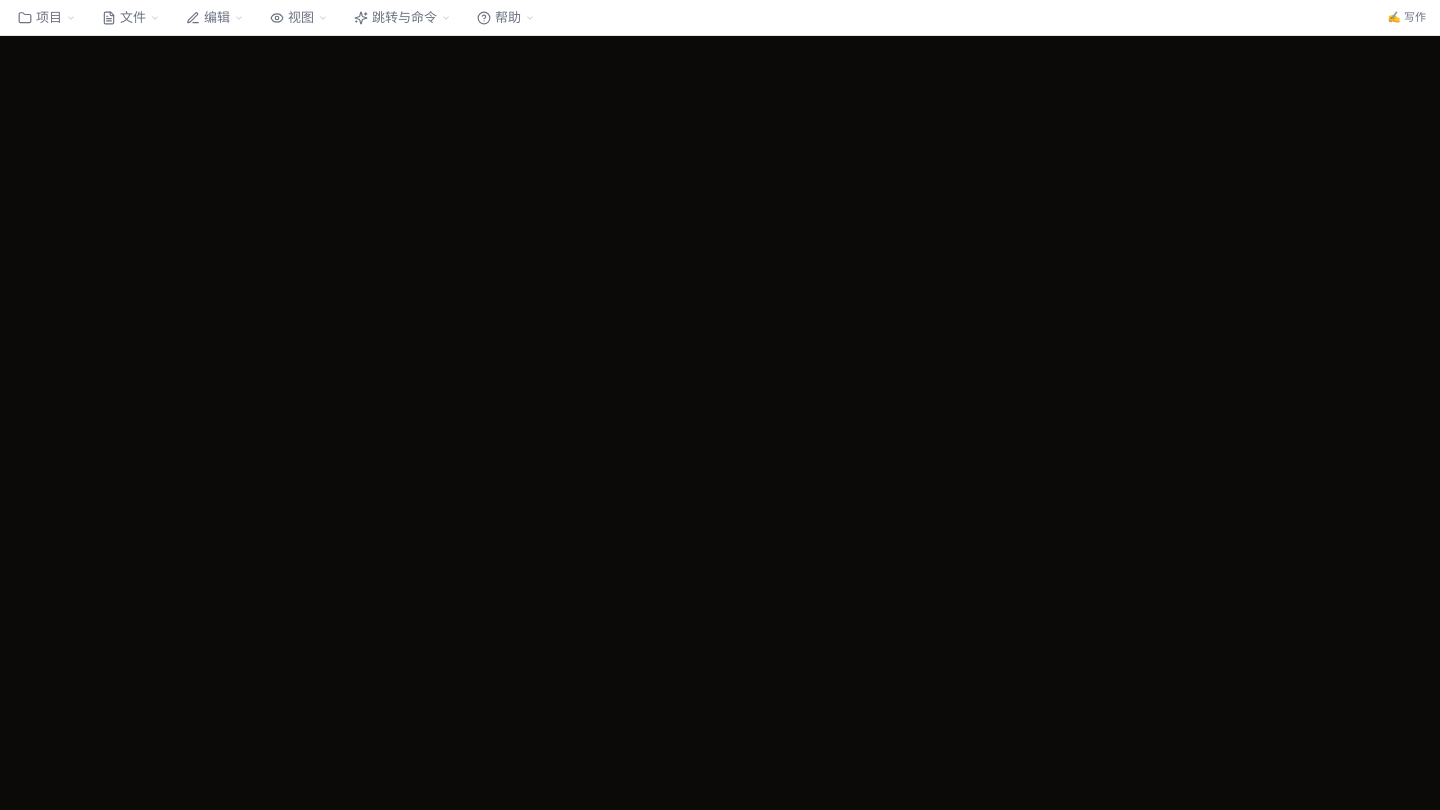
Test: MenuBar(注册表驱动) › 菜单项与注册表 project 分类完全一致(label + 快捷键标签)
Click the button with test id "menu-project": point(47, 18) [6,4,88,32]
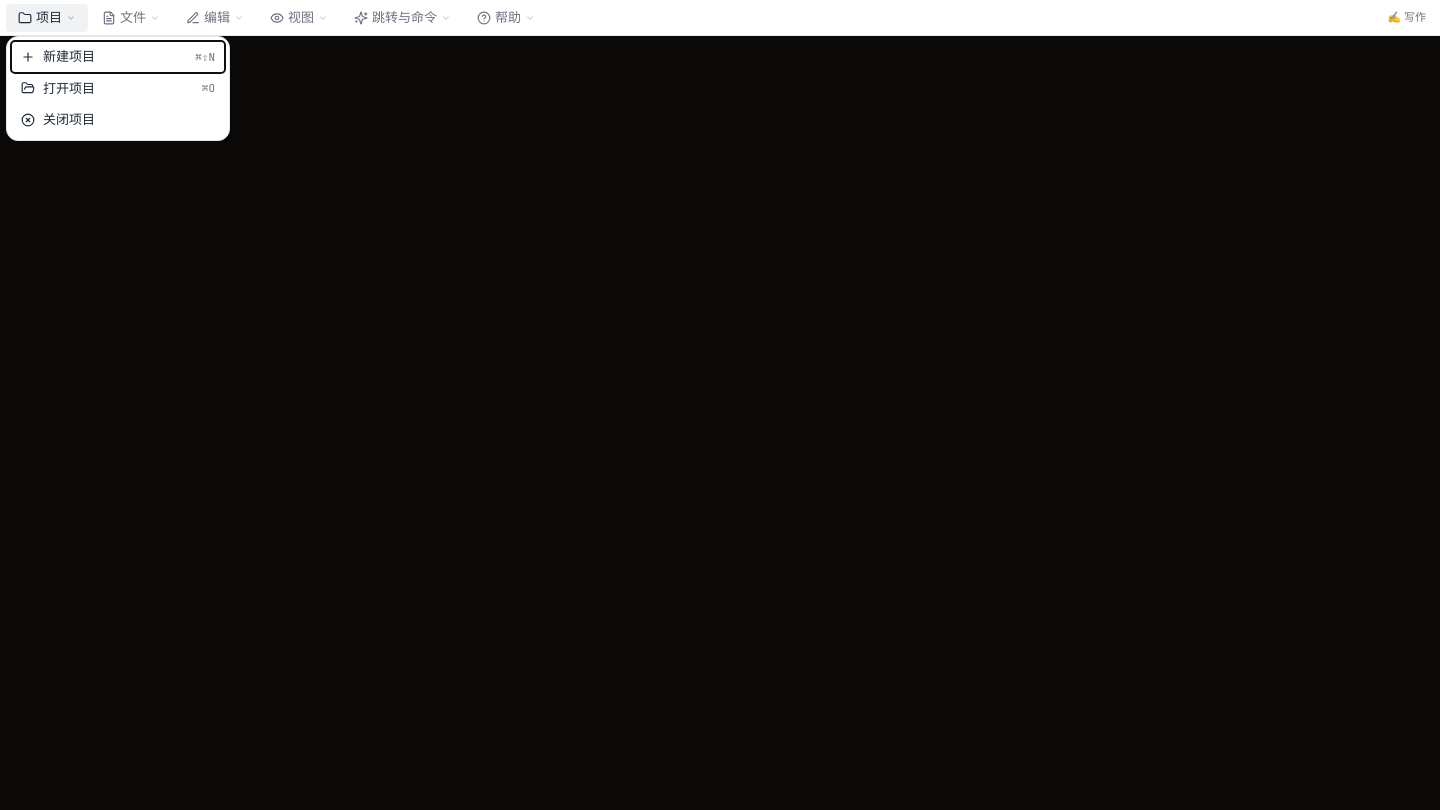
Check: the button with test id "menu-item-project-closeProject" reads "关闭项目", box [11,104,225,136]
